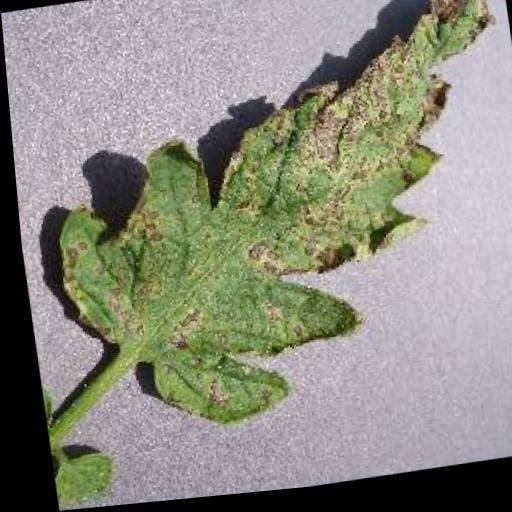Septoria: (21, 0, 512, 444)
